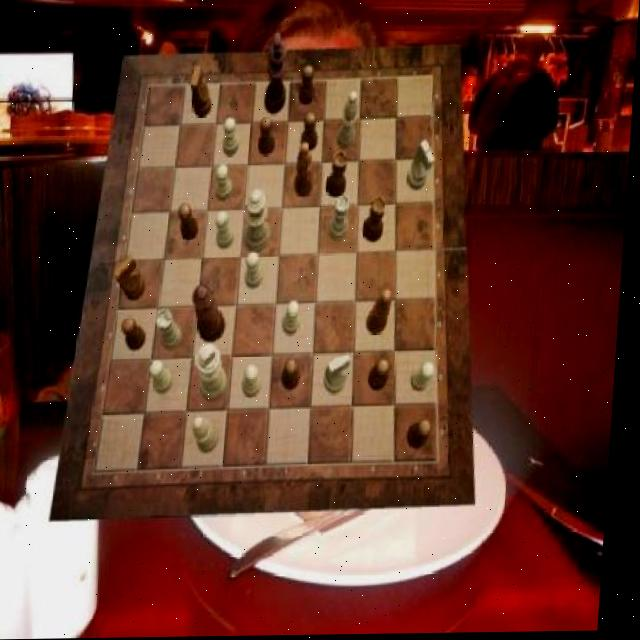bishop: (371, 290, 397, 336), (295, 144, 317, 198)
black-bishop: (265, 33, 291, 115)
black-king: (116, 255, 151, 301), (189, 67, 215, 119)
black-knight: (125, 317, 151, 351), (411, 419, 438, 450), (179, 204, 202, 240), (259, 117, 278, 157), (299, 67, 318, 107), (301, 113, 320, 152), (373, 360, 395, 393), (286, 361, 306, 394)
black-pawn: (193, 285, 231, 344)
black-queen: (365, 198, 390, 245), (328, 153, 350, 199)
black-rook: (338, 92, 361, 151), (197, 416, 226, 454)
white-bishop: (198, 345, 234, 404)
white-king: (409, 141, 438, 192), (329, 354, 357, 396)
white-knight: (154, 359, 180, 394), (216, 212, 238, 250), (415, 364, 441, 393), (224, 119, 243, 158), (248, 254, 268, 290), (216, 167, 236, 203), (247, 366, 268, 400), (286, 301, 305, 336)
white-pawn: (246, 189, 276, 253)
white-queen: (159, 310, 188, 352), (330, 196, 353, 242)
